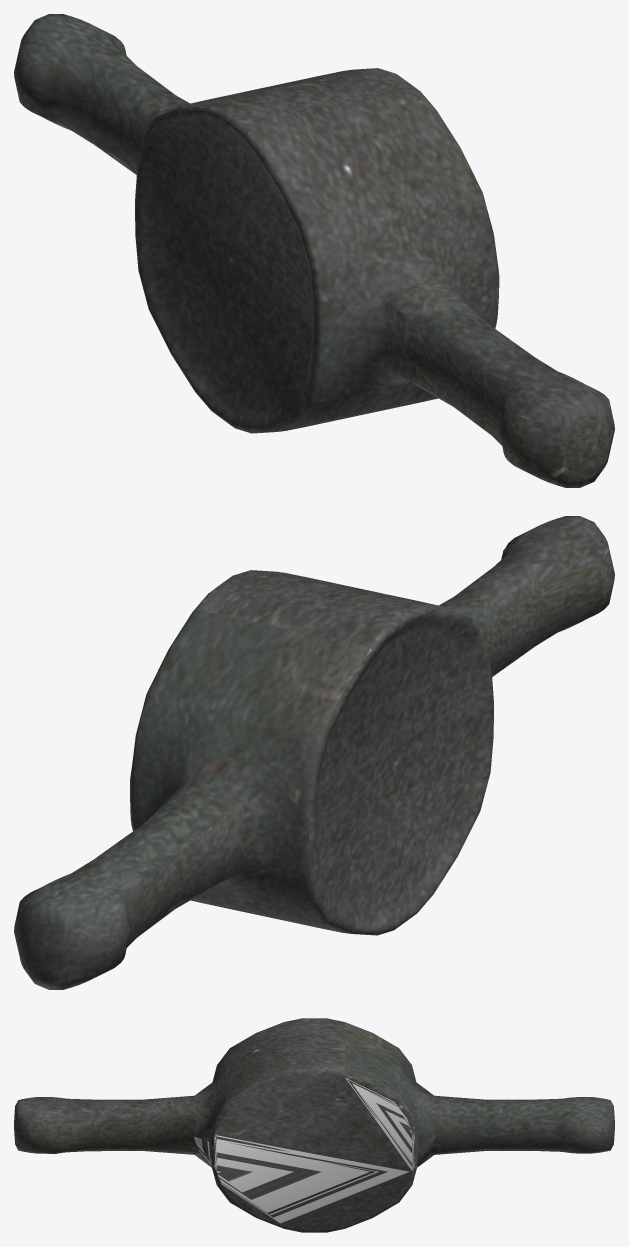
3 views of the same model, one above another, from view 1: azimuth 30°, elevation 25°; view 2: azimuth 150°, elevation 25°; view 3: azimuth 270°, elevation 25° (orthographic). The views are drawn at different scales.
Visible parts, largest first — view 1: Sword; view 2: Sword; view 3: Sword.
Part boxes in pixels (x1,y1,x2,y2): Sword: (14, 14, 614, 487); Sword: (14, 516, 614, 989); Sword: (14, 1018, 614, 1232).
Size of the model in its own units: 1.02 by 1.57 by 5.03.
Materials: 1 (1 with a texture image).
